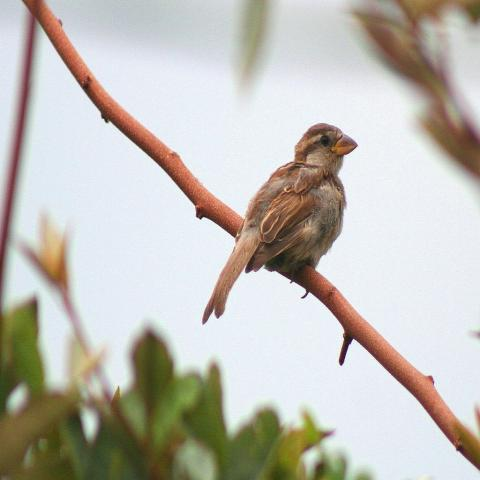bird: (200, 120, 359, 326)
